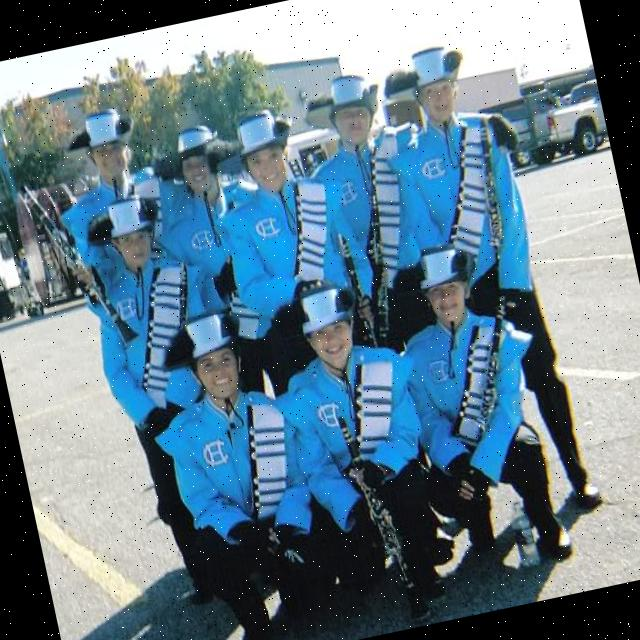clarinet: (332, 400, 439, 630), (17, 168, 142, 358), (339, 146, 418, 342), (447, 294, 538, 448), (464, 113, 519, 259), (332, 228, 386, 349)
